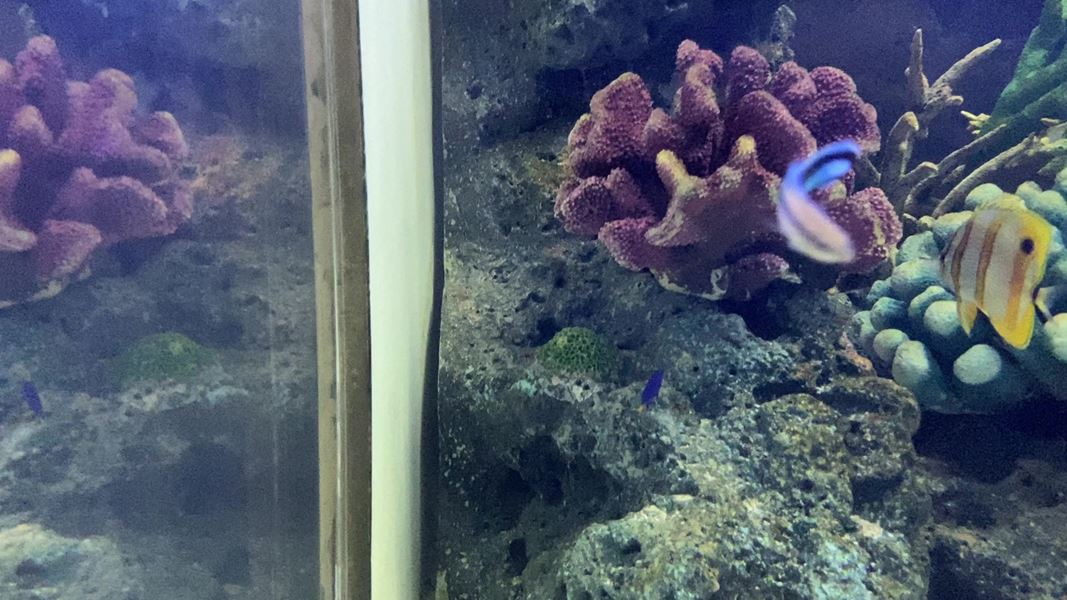Bluesteak cleaner wrasse: (778, 131, 869, 274)
